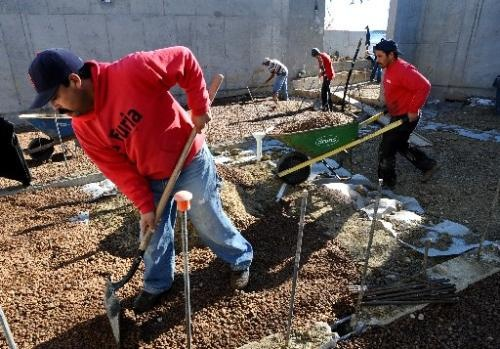blue: (311, 46, 320, 58)
none: (29, 45, 89, 113), (374, 38, 398, 68)
white: (262, 54, 271, 67)
